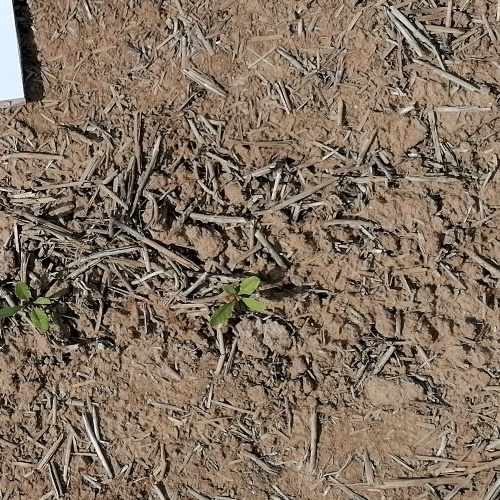beet: (211, 276, 264, 329), (0, 283, 54, 333)
